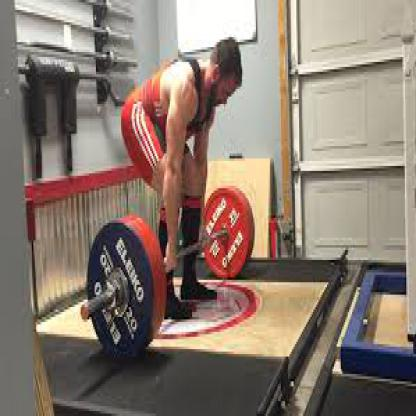Barbell: (82, 216, 156, 366)
